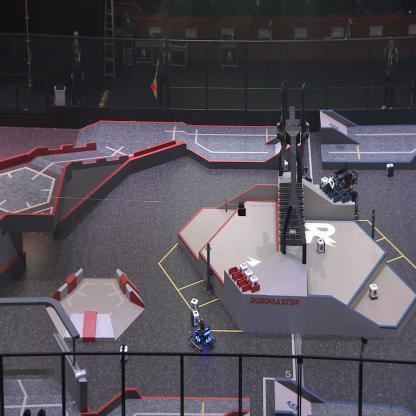car: (331, 167, 359, 219), (188, 318, 216, 354)
